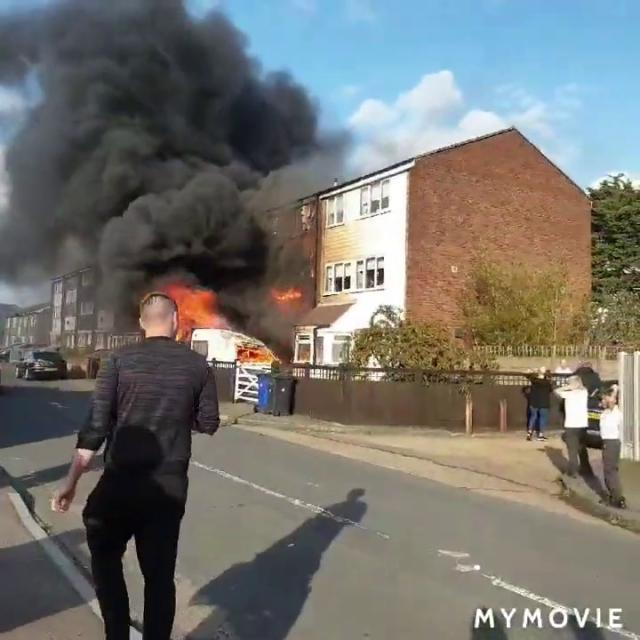Fire: (134, 282, 230, 342)
Smoke: (0, 0, 325, 290)
